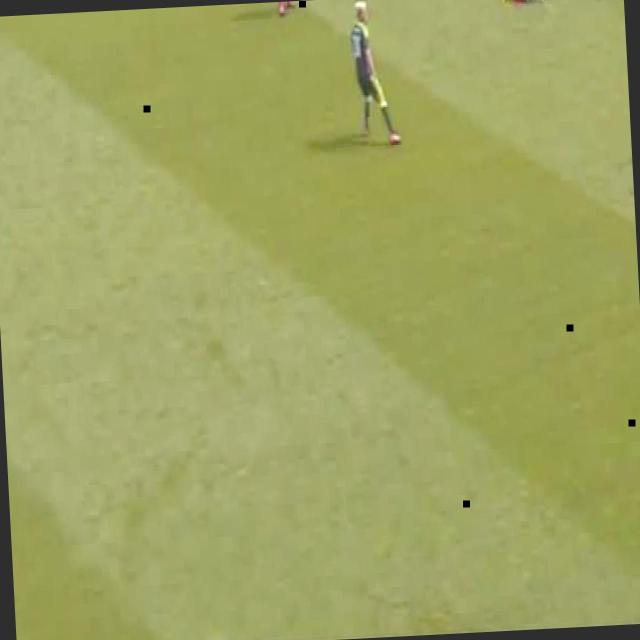player-white: (348, 0, 401, 146), (275, 1, 303, 15), (502, 0, 559, 4)
